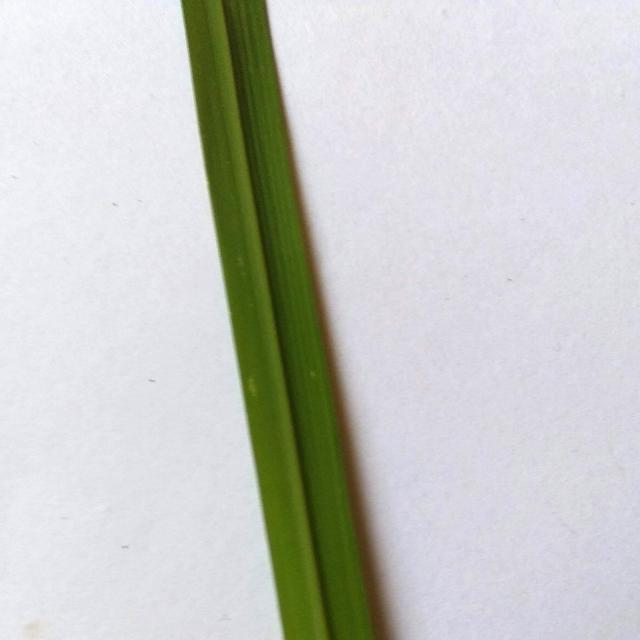healthy: (158, 0, 436, 640)
